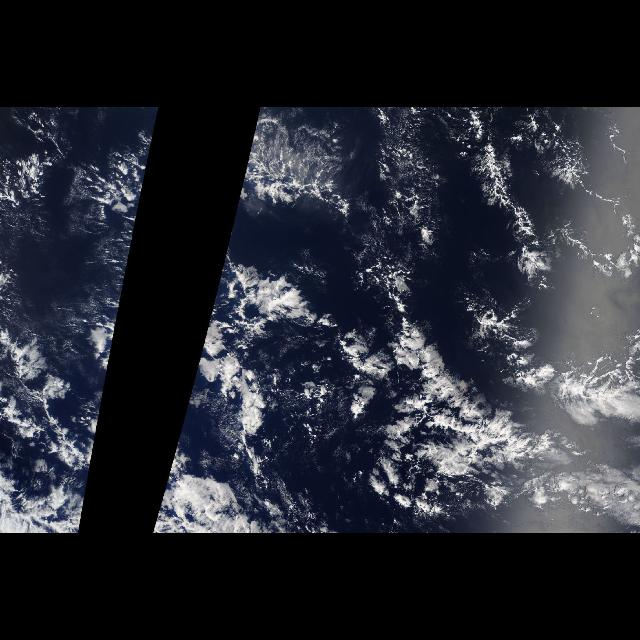Fish: (342, 284, 640, 472)
Gravel: (357, 110, 637, 272)
